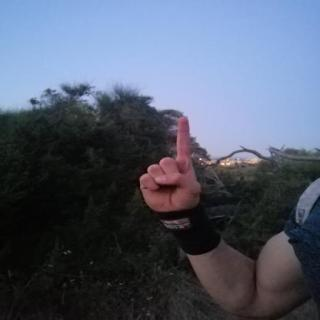BAA: (132, 110, 207, 218)
